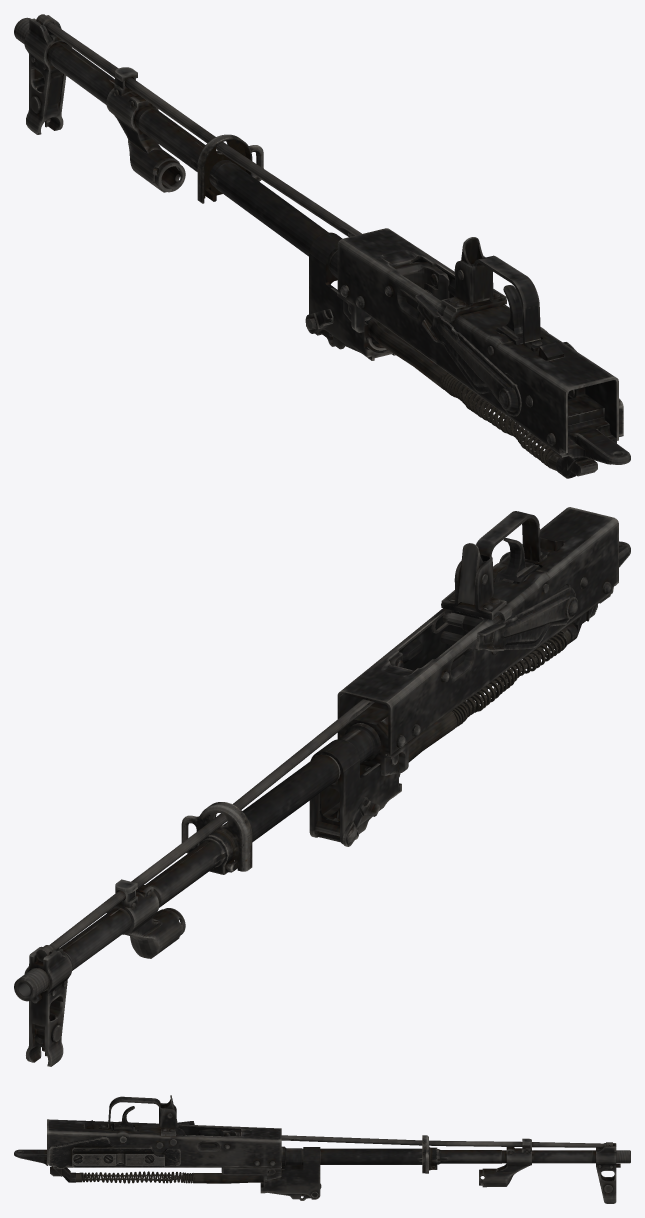
The picture shows the model from 3 angles, top to bottom: view 1: azimuth 30°, elevation 25°; view 2: azimuth 150°, elevation 25°; view 3: azimuth 270°, elevation 25°; orthographic projection. The views are drawn at different scales.
Parts seen in each view (by area): view 1: TW_5a0ec13bfcdbcb00165aa685_PZ_Import; view 2: TW_5a0ec13bfcdbcb00165aa685_PZ_Import; view 3: TW_5a0ec13bfcdbcb00165aa685_PZ_Import.
Boxes of the visible parts, x1=… form: TW_5a0ec13bfcdbcb00165aa685_PZ_Import: x1=14, y1=14, x2=630, y2=478; TW_5a0ec13bfcdbcb00165aa685_PZ_Import: x1=14, y1=507, x2=630, y2=1066; TW_5a0ec13bfcdbcb00165aa685_PZ_Import: x1=14, y1=1095, x2=630, y2=1203.
Size of the model in its own units: 0.0314 by 0.3894 by 0.0736.
1 material, 1 textured.
